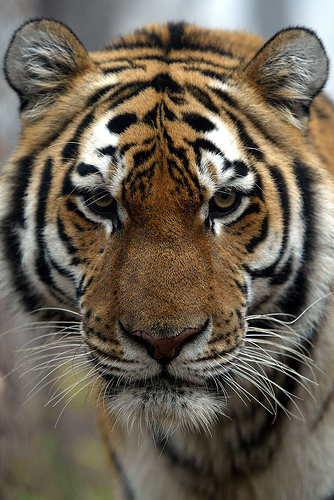Tigre: (10, 13, 325, 431)
